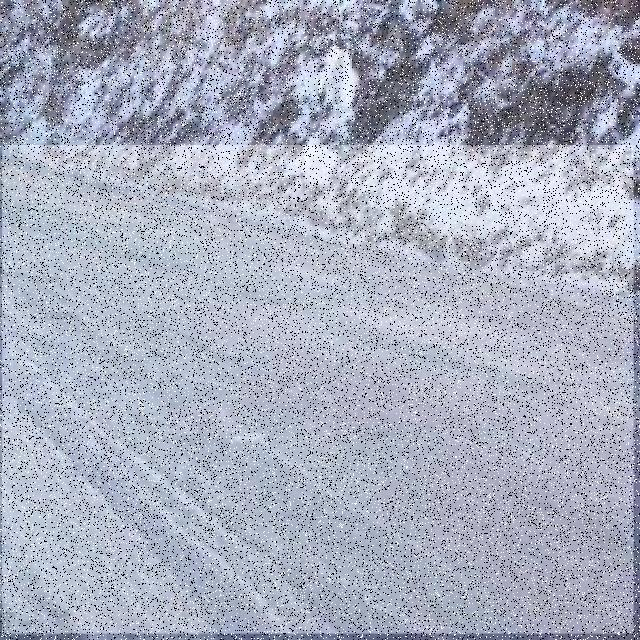ice-road: (3, 145, 634, 634)
